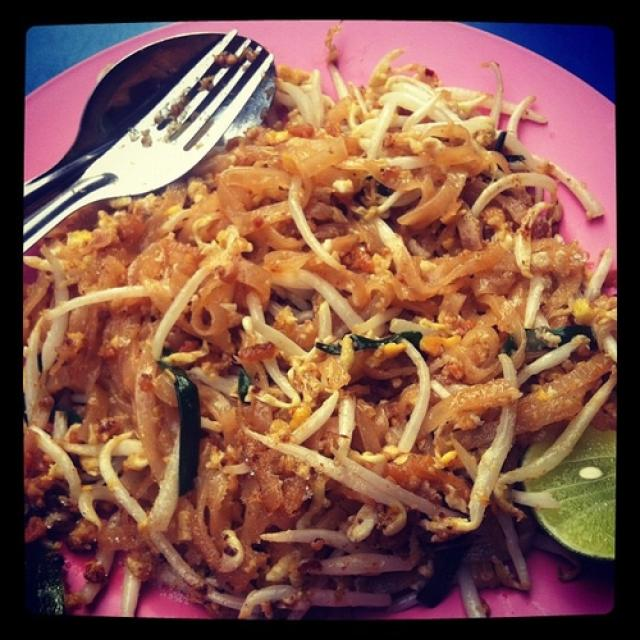炸货点心: (22, 45, 617, 623)
蛋糕甜品: (22, 45, 617, 623)
